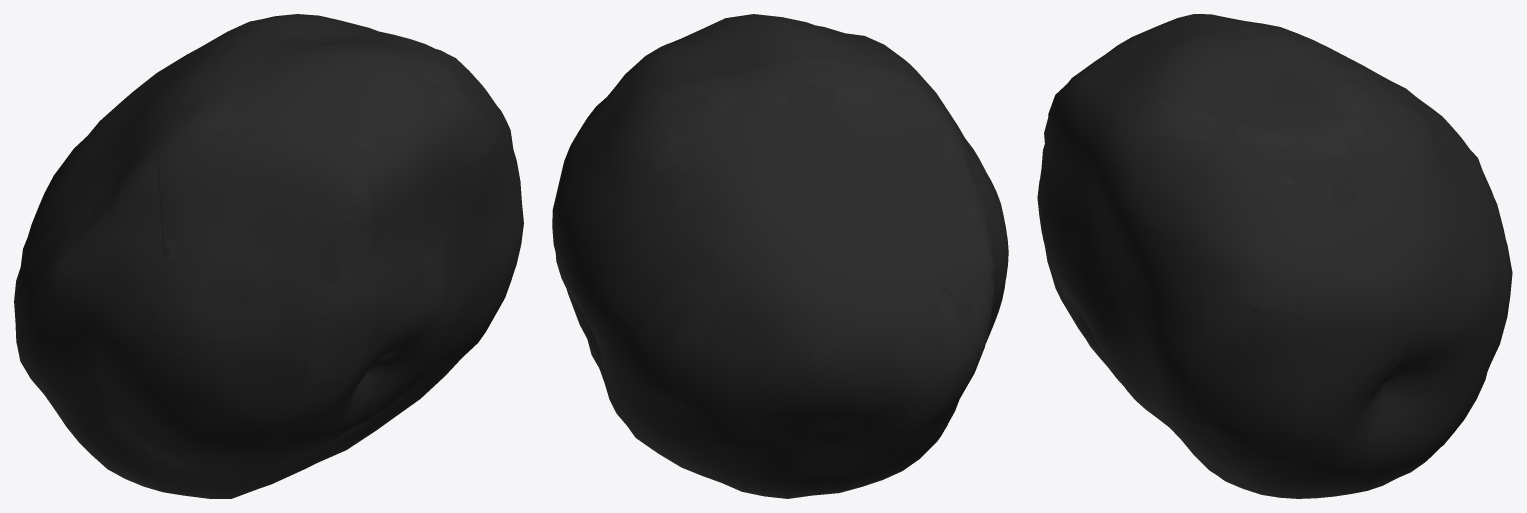
Rendered from asteroid-0.glb.
3 renders of one model, left to right at view 1: azimuth 30°, elevation 25°; view 2: azimuth 150°, elevation 25°; view 3: azimuth 270°, elevation 25°, orthographic. The views are drawn at different scales.
Visible parts, largest first — view 1: asteroid; view 2: asteroid; view 3: asteroid.
Boxes of the visible parts, box(x1,y1,x2,y2) form: asteroid: box(14, 14, 523, 498); asteroid: box(552, 14, 1008, 498); asteroid: box(1037, 14, 1512, 498).
Bounding box in the file's own units: 0.1089 × 0.0986 × 0.095.
Materials: 1 (1 with a texture image).
